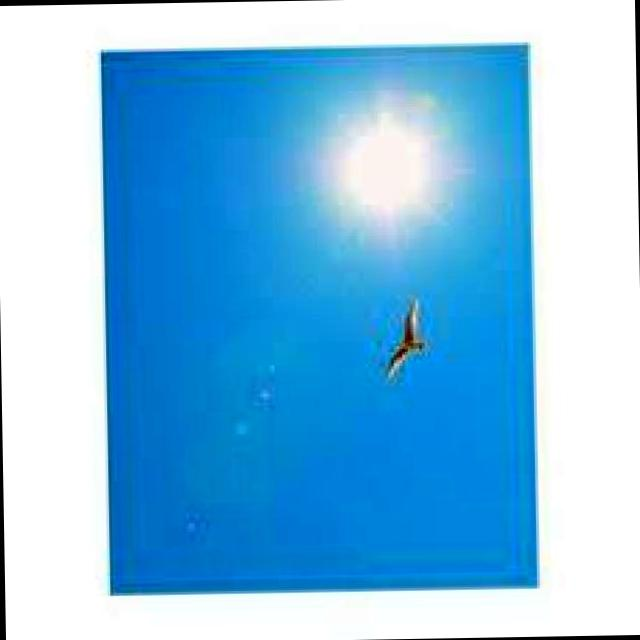bird: (372, 293, 447, 382)
